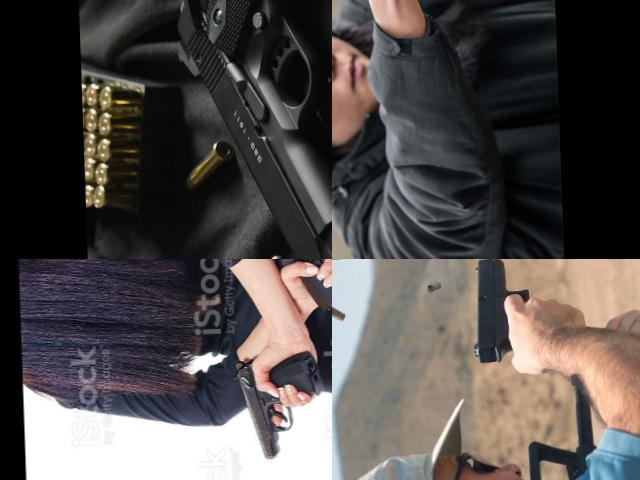handgun: (160, 0, 332, 259), (230, 346, 330, 462), (469, 259, 544, 365), (261, 259, 332, 334), (332, 0, 423, 58)
